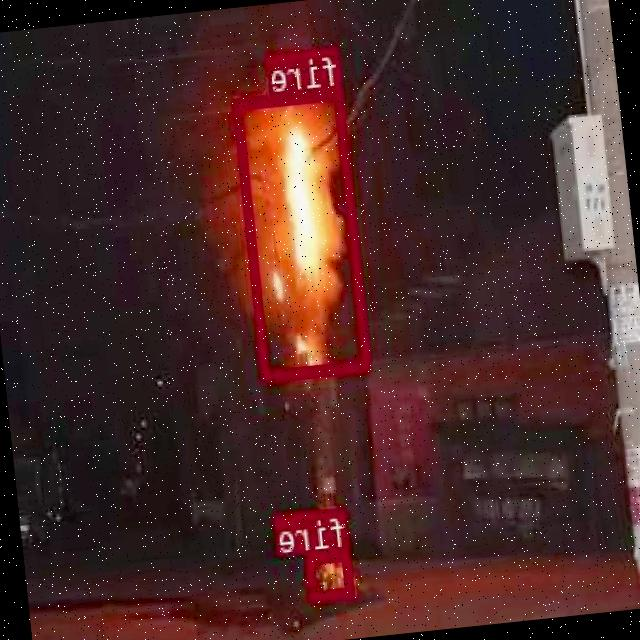fire: (233, 84, 372, 378), (306, 546, 355, 600)
